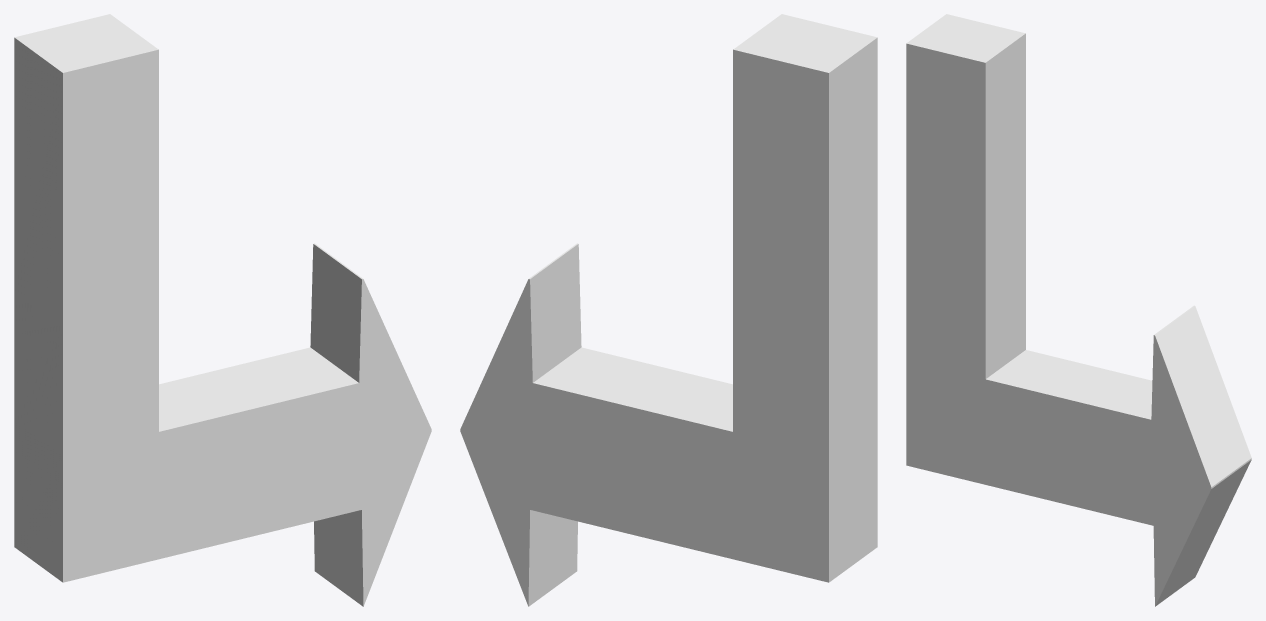
Rendered from Return.obj.
3 renders of one model, left to right at view 1: azimuth 30°, elevation 25°; view 2: azimuth 150°, elevation 25°; view 3: azimuth 330°, elevation 25°, orthographic. The views are drawn at different scales.
Visible parts, largest first — view 1: 立方体; view 2: 立方体; view 3: 立方体.
Boxes of the visible parts, x1,y1,x2,y2 form: 立方体: [14, 14, 431, 606]; 立方体: [460, 14, 877, 606]; 立方体: [906, 14, 1251, 606].
Bounding box in the file's own units: 0.9266 × 1.46 × 0.212.
Materials: 1 (1 with a texture image).
